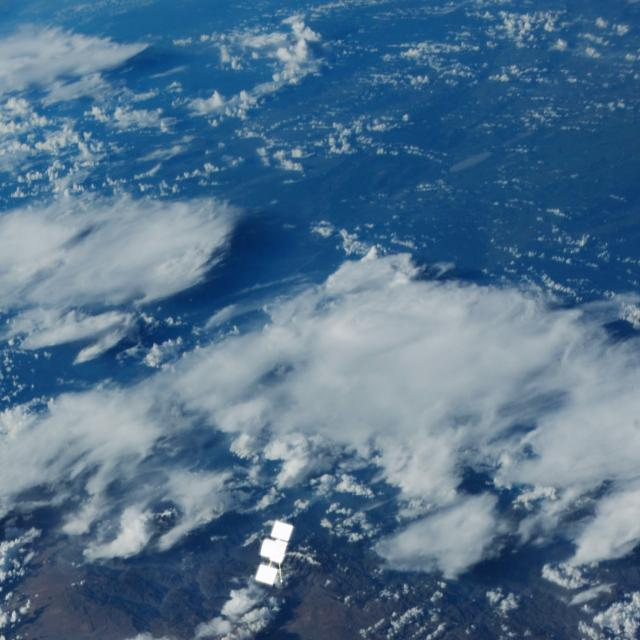satellite: (244, 503, 323, 601)
